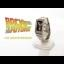watch: (34, 17, 46, 35)
